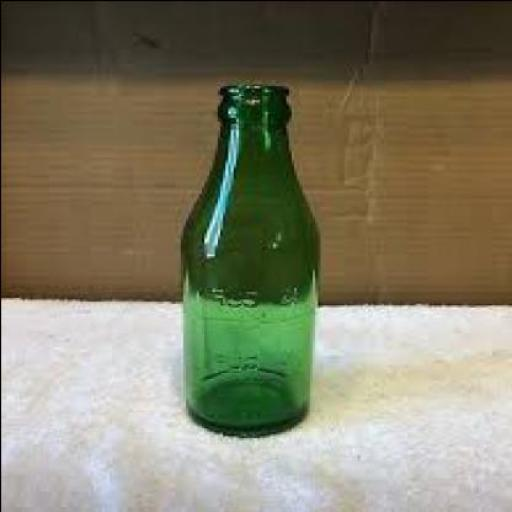cardboard: (1, 1, 511, 302)
glass: (182, 81, 325, 435)
